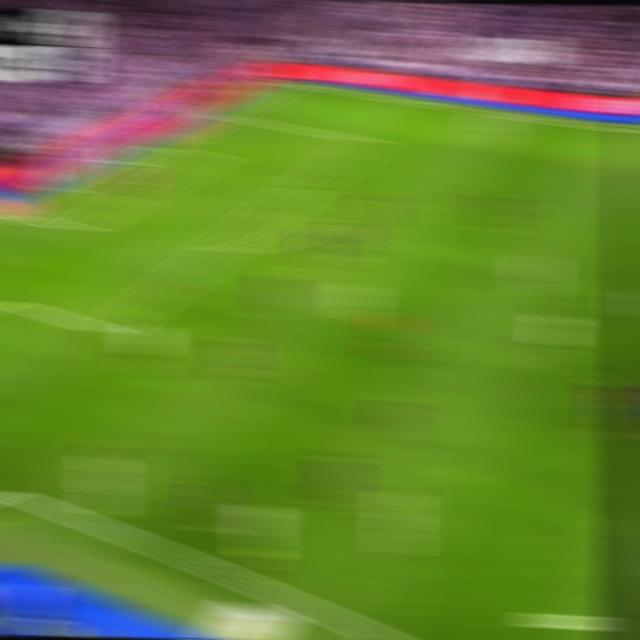bigarea_bottom_inner: (93, 318, 124, 342)
bigarea_top_inner: (353, 134, 381, 148)
bigarea_top_outter: (208, 107, 236, 119)
bottom_arc_area_intersection: (206, 238, 236, 259)
corner: (270, 75, 299, 86)
smallarea_top_inner: (194, 150, 219, 160)
top_arc_area_intersection: (295, 175, 324, 192)
